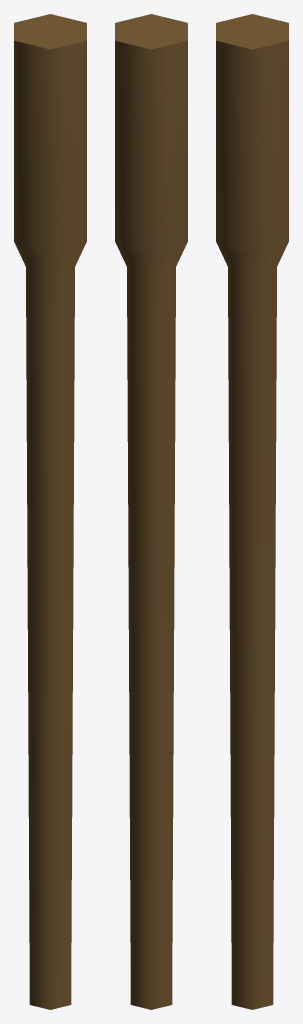
The model's file is tool_handle_1.fbx.
3 views of the same model, side by side, from view 1: azimuth 90°, elevation 25°; view 2: azimuth 210°, elevation 25°; view 3: azimuth 270°, elevation 25° (orthographic).
Visible parts, largest first — view 1: handle_1; view 2: handle_1; view 3: handle_1.
Boxes of the visible parts, x1,y1,x2,y2 form: handle_1: (14, 14, 86, 1009); handle_1: (115, 14, 187, 1009); handle_1: (216, 14, 288, 1009).
Bounding box in the file's own units: 0.8522 × 10.8 × 0.738.
